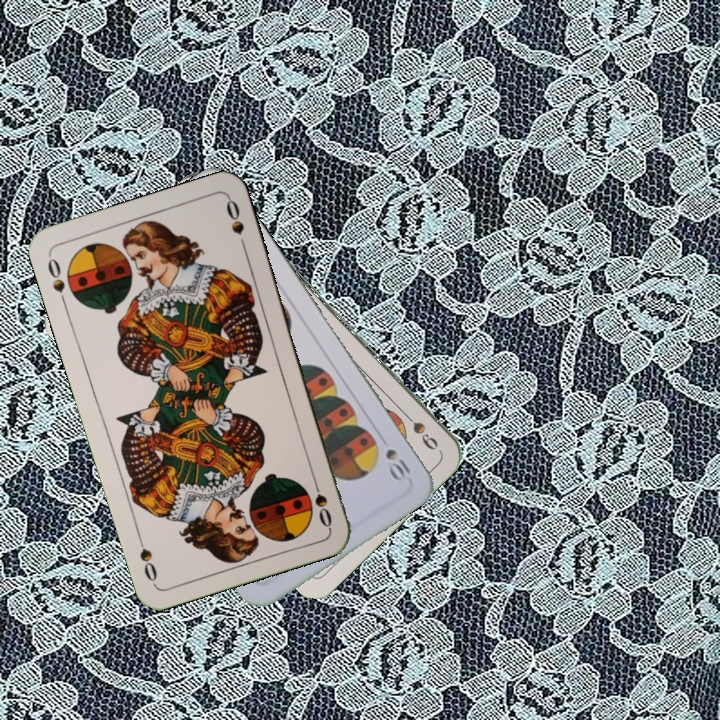S10: (381, 444, 414, 482)
S9: (396, 405, 441, 452)
SO: (308, 472, 335, 530), (43, 251, 70, 309)
